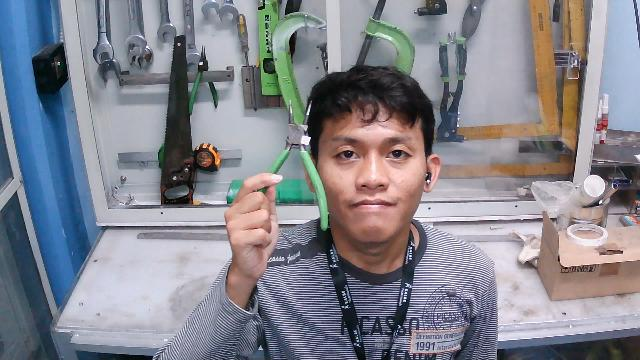tang_cucut_lancip_1: (253, 100, 335, 237)
